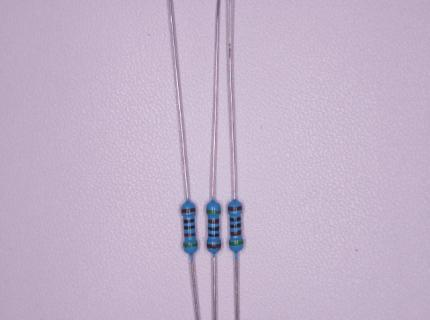Black band: (229, 216, 241, 222), (183, 219, 195, 224), (184, 225, 195, 230), (208, 226, 219, 231), (230, 223, 241, 228), (208, 233, 220, 237)
Brown band: (181, 208, 196, 214), (228, 206, 243, 212), (206, 244, 221, 249), (230, 230, 242, 236), (208, 219, 219, 224), (184, 233, 196, 237)
Green band: (206, 209, 221, 215), (229, 240, 244, 246), (183, 243, 198, 248)
